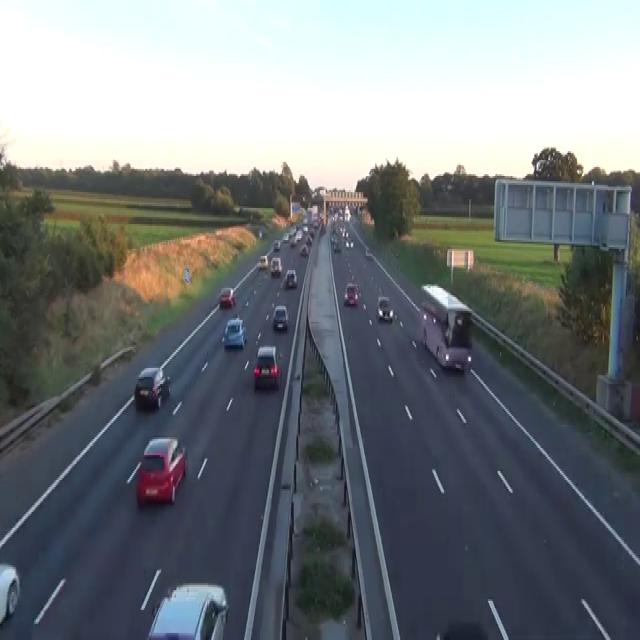Car: (147, 582, 229, 638), (136, 435, 187, 505), (134, 366, 170, 409), (0, 562, 20, 624), (253, 345, 279, 389), (435, 619, 488, 638), (222, 316, 247, 348), (377, 295, 393, 322), (273, 304, 289, 331), (218, 286, 236, 308), (343, 282, 359, 306), (281, 268, 297, 288), (270, 256, 282, 276), (258, 254, 268, 268), (300, 244, 309, 256), (330, 230, 338, 243), (345, 238, 354, 249), (333, 240, 341, 252), (273, 238, 280, 251), (365, 249, 373, 259), (312, 218, 319, 228), (289, 235, 296, 245), (305, 233, 312, 243), (296, 229, 302, 240), (282, 233, 289, 242), (302, 224, 308, 233), (349, 240, 354, 247), (258, 230, 262, 238), (345, 240, 349, 247)
Truck: (420, 283, 472, 372)
